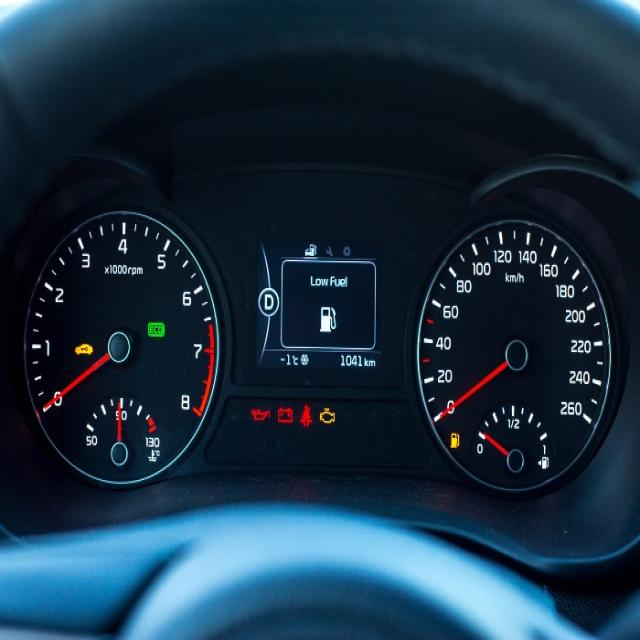Charging System Issue: (276, 404, 294, 425)
Check Engine: (318, 404, 337, 426)
Low Engine Oil Warning Light: (250, 404, 272, 424)
